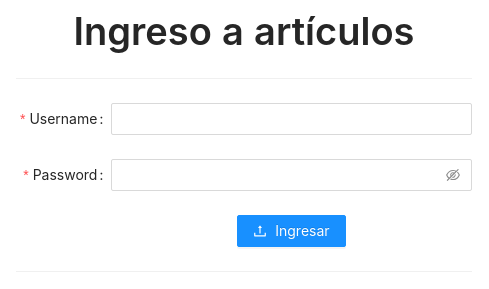
Test: Login click button without username and password
Click the button. click: (291, 231)
box: [237, 215, 346, 247]
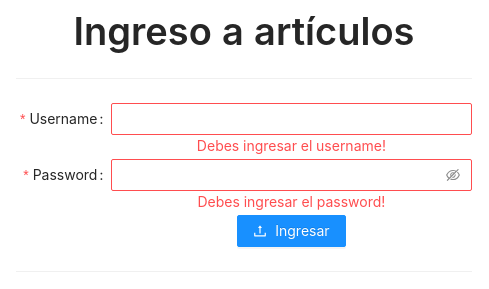
Now the text "Debes ingresar el username!" is shown, box [197, 137, 386, 154]
Now the text "Debes ingresar el password!" is shown, box [198, 193, 385, 210]
